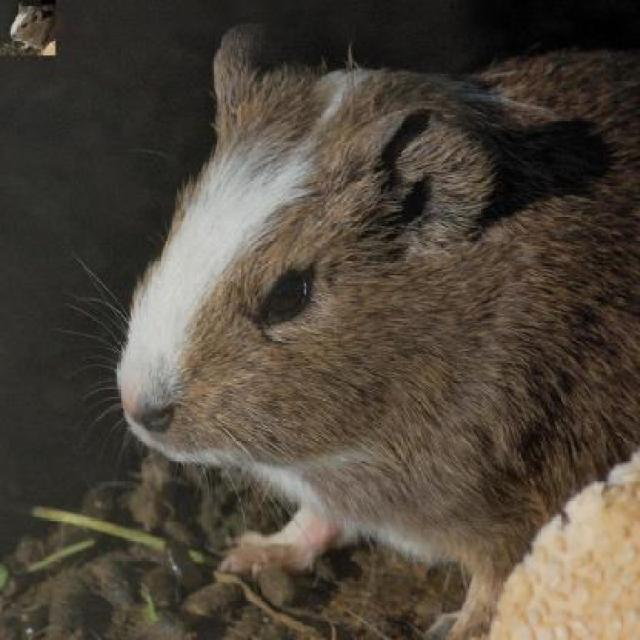Mouse: (97, 26, 640, 640)
